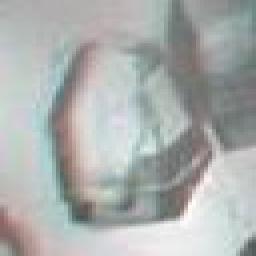crystals: (38, 20, 220, 229)
